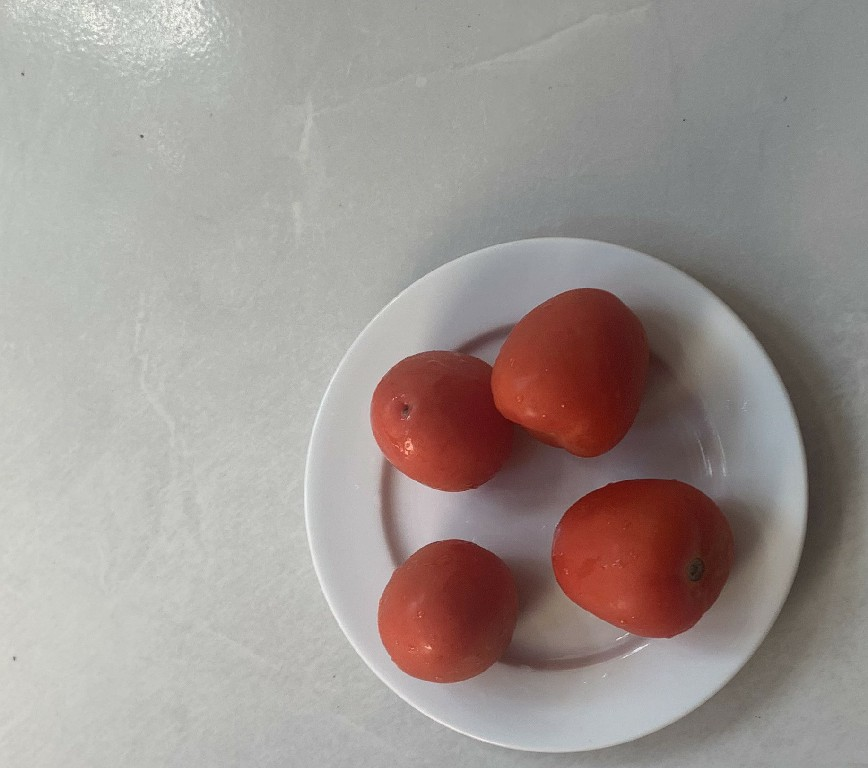OK: (549, 473, 738, 646), (491, 281, 657, 457), (373, 534, 523, 678), (368, 347, 510, 493)
